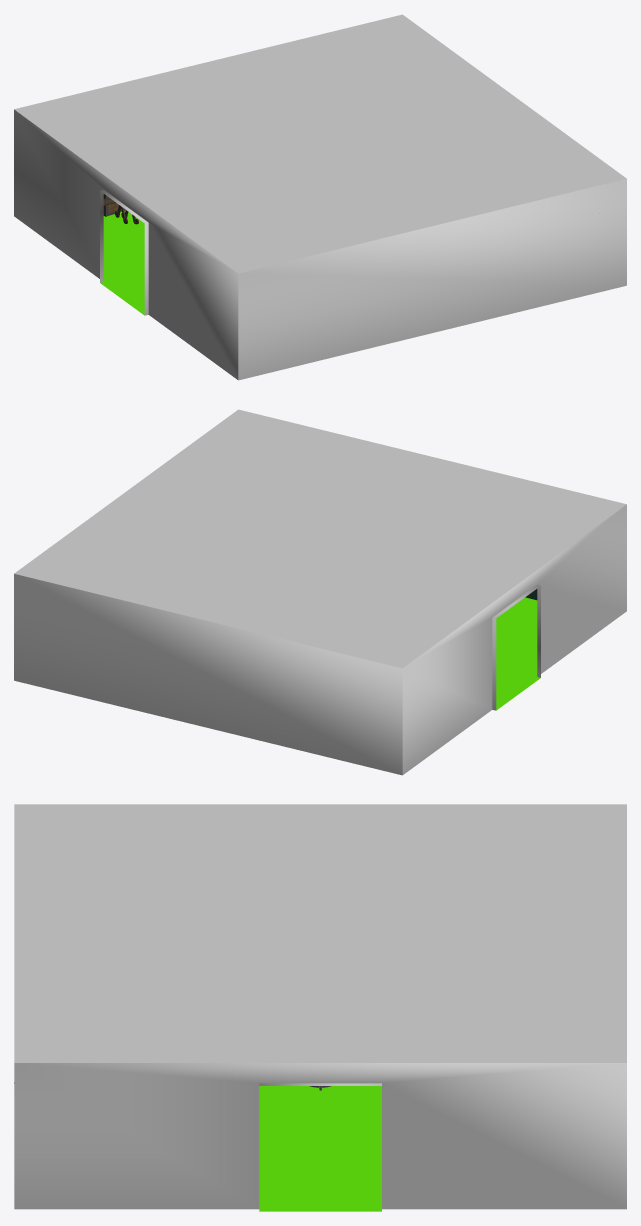
Rendered from roomsB5.fbx.
The picture shows the model from 3 angles, top to bottom: view 1: azimuth 30°, elevation 25°; view 2: azimuth 150°, elevation 25°; view 3: azimuth 270°, elevation 25°; orthographic projection. The views are drawn at different scales.
Parts seen in each view (by area): view 1: Plane.018, Plane.014, Plane.007; view 2: Plane.018, Plane.014, Plane.007; view 3: Plane.018, Plane.014, Plane.007.
Part boxes in pixels (x1,y1,x2,y2): Plane.018: (14,14,626,273); Plane.014: (14,109,626,380); Plane.007: (100,210,144,315); Plane.018: (14,409,626,668); Plane.014: (14,504,626,775); Plane.007: (496,597,540,710); Plane.018: (14,804,626,1062); Plane.014: (14,1063,626,1209); Plane.007: (259,1086,381,1211).
Size of the model in its own units: 1020 by 263 by 1000.
